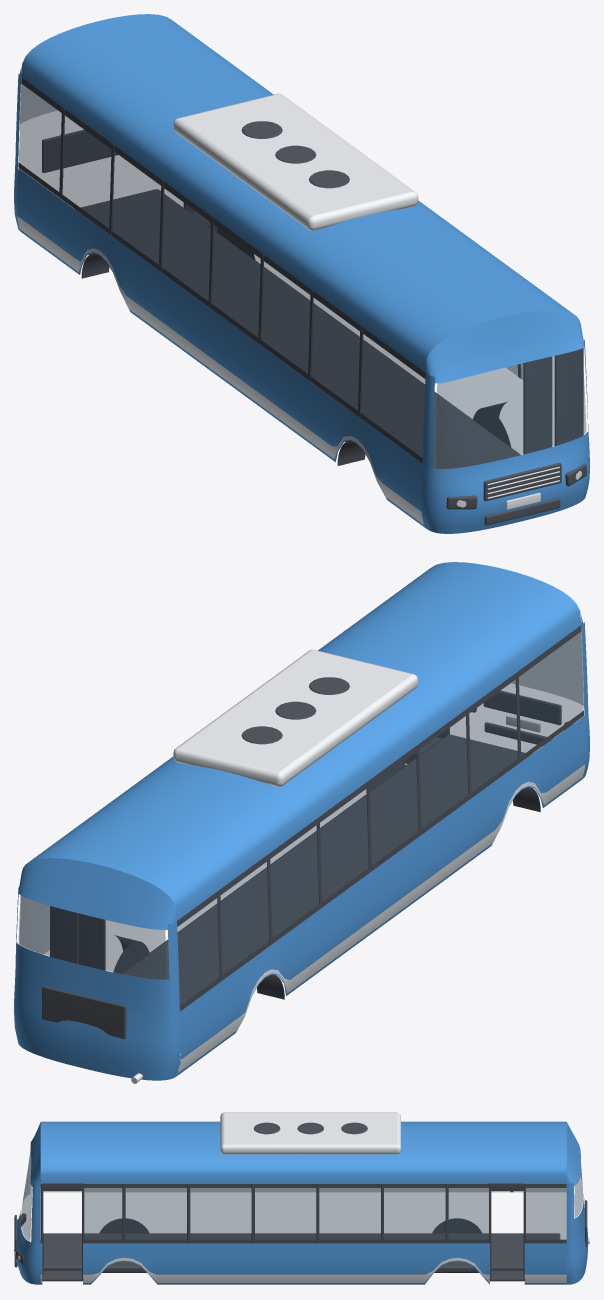
Rendered from bus_metro.glb.
3 renders of one model, top to bottom at view 1: azimuth 30°, elevation 25°; view 2: azimuth 150°, elevation 25°; view 3: azimuth 270°, elevation 25°, orthographic. The views are drawn at different scales.
Visible parts, largest first — view 1: PaintShell, DarkTrim, CabinGlass, RoofPod, AccentShell, ChromeTrim; view 2: PaintShell, DarkTrim, CabinGlass, RoofPod, AccentShell; view 3: PaintShell, CabinGlass, DarkTrim, RoofPod, AccentShell.
Part boxes in pixels (left/top/right/bottom): PaintShell: left=14, top=14, right=589, bottom=533; DarkTrim: left=18, top=77, right=586, bottom=525; CabinGlass: left=19, top=83, right=585, bottom=468; RoofPod: left=173, top=93, right=418, bottom=230; AccentShell: left=17, top=216, right=423, bottom=524; ChromeTrim: left=456, top=466, right=581, bottom=509; PaintShell: left=14, top=562, right=589, bottom=1080; DarkTrim: left=42, top=625, right=583, bottom=1038; CabinGlass: left=19, top=631, right=583, bottom=1005; RoofPod: left=173, top=649, right=418, bottom=786; AccentShell: left=178, top=764, right=585, bottom=1072; PaintShell: left=15, top=1121, right=588, bottom=1284; CabinGlass: left=21, top=1150, right=582, bottom=1240; DarkTrim: left=14, top=1122, right=587, bottom=1281; RoofPod: left=220, top=1112, right=400, bottom=1154; AccentShell: left=40, top=1257, right=566, bottom=1282.
Size of the model in its own units: 2.62 by 3.07 by 12.12.
